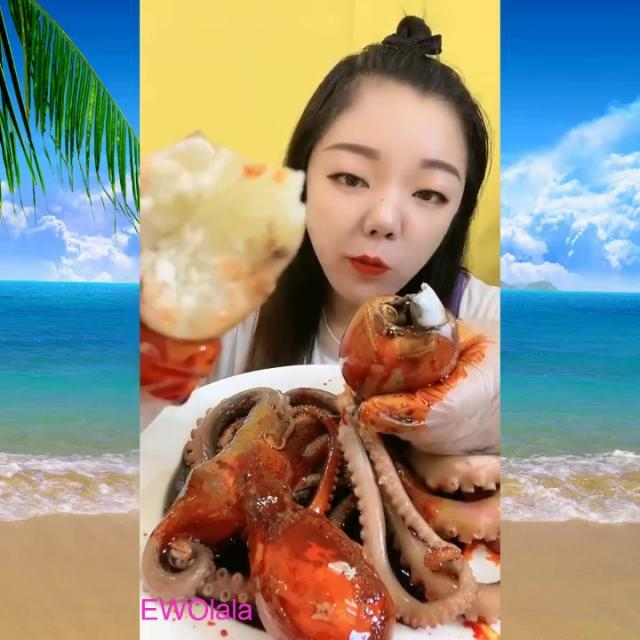octopus: (135, 379, 488, 640)
